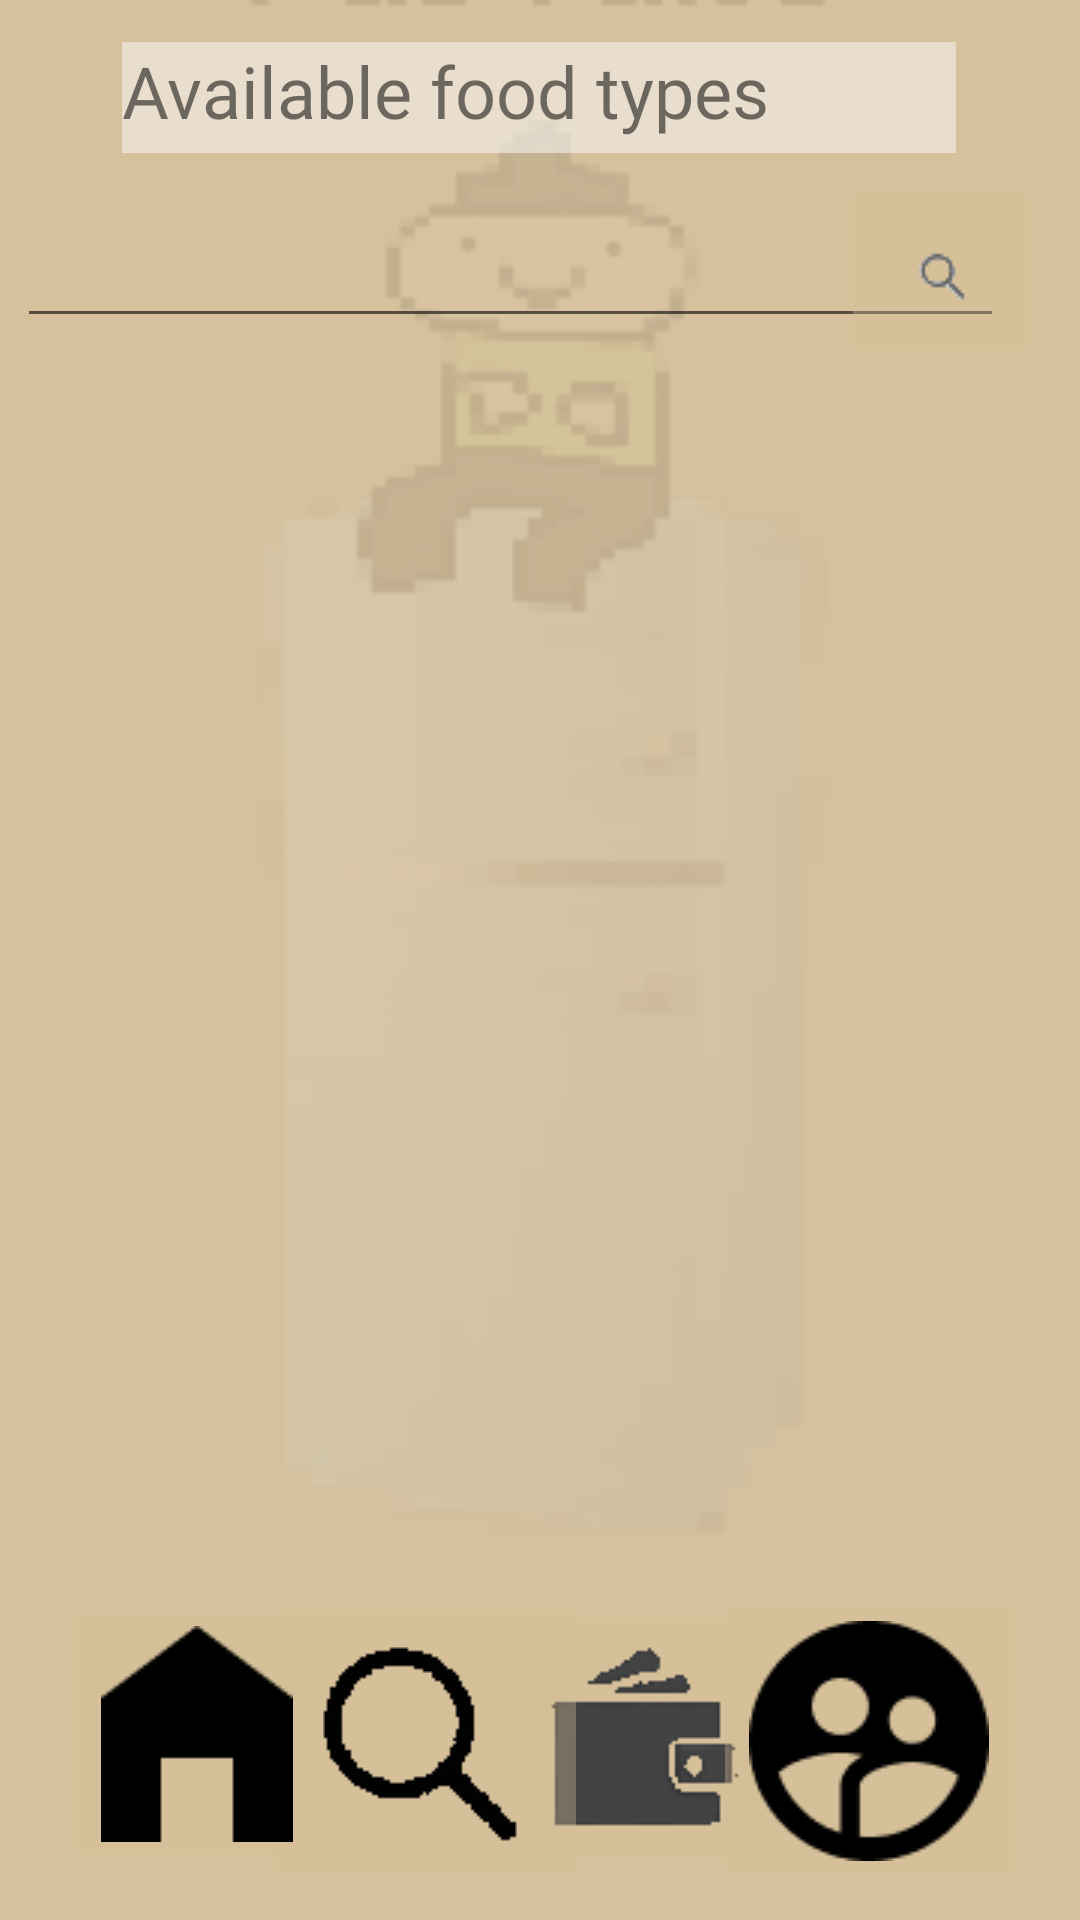

Icons on this 1080 × 1920 Android screen, each with its box as (x1, y1, x2, y2):
homepage: (101, 1626, 293, 1842)
wallet: (551, 1647, 739, 1826)
